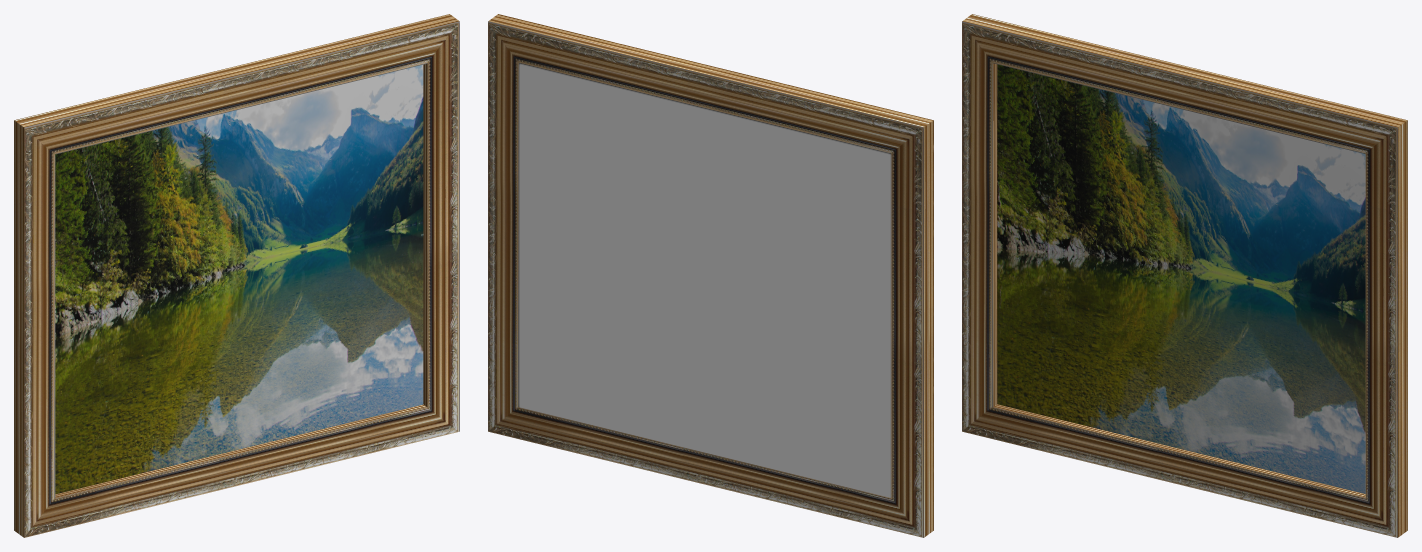
File: Frame_06.FBX
3 views of the same model, side by side, from view 1: azimuth 30°, elevation 25°; view 2: azimuth 150°, elevation 25°; view 3: azimuth 330°, elevation 25° (orthographic).
Parts seen in each view (by area): view 1: Frame_06; view 2: Frame_06; view 3: Frame_06.
Boxes of the visible parts, bbox=[...] form: Frame_06: bbox=[14, 14, 459, 537]; Frame_06: bbox=[488, 14, 933, 537]; Frame_06: bbox=[962, 14, 1407, 537].
Bounding box in the file's own units: 900 × 36 × 810.
